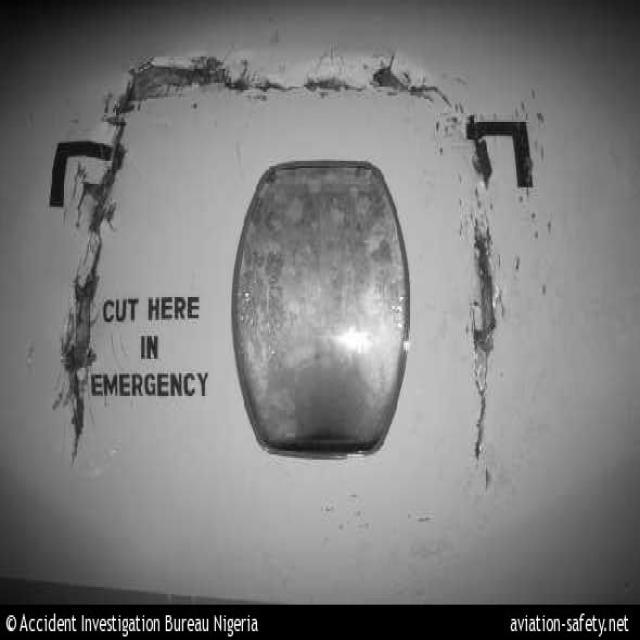crack: (58, 58, 503, 470)
